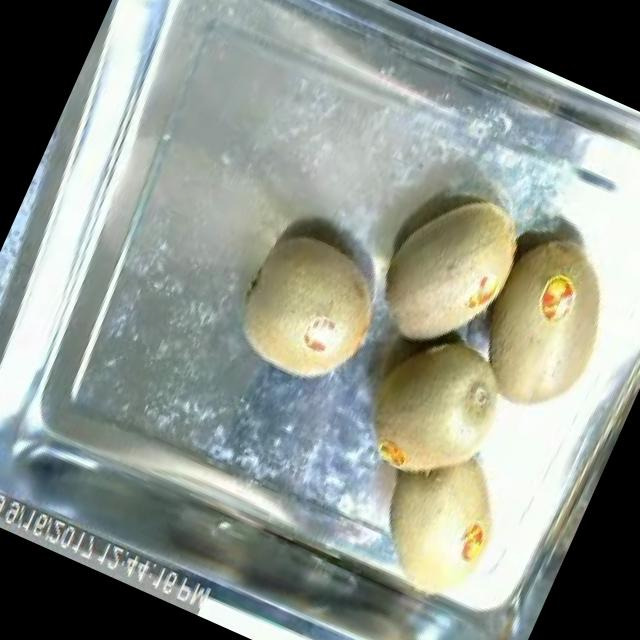Fruit: (352, 161, 552, 382), (340, 306, 534, 509), (213, 210, 408, 408), (463, 242, 640, 441)
